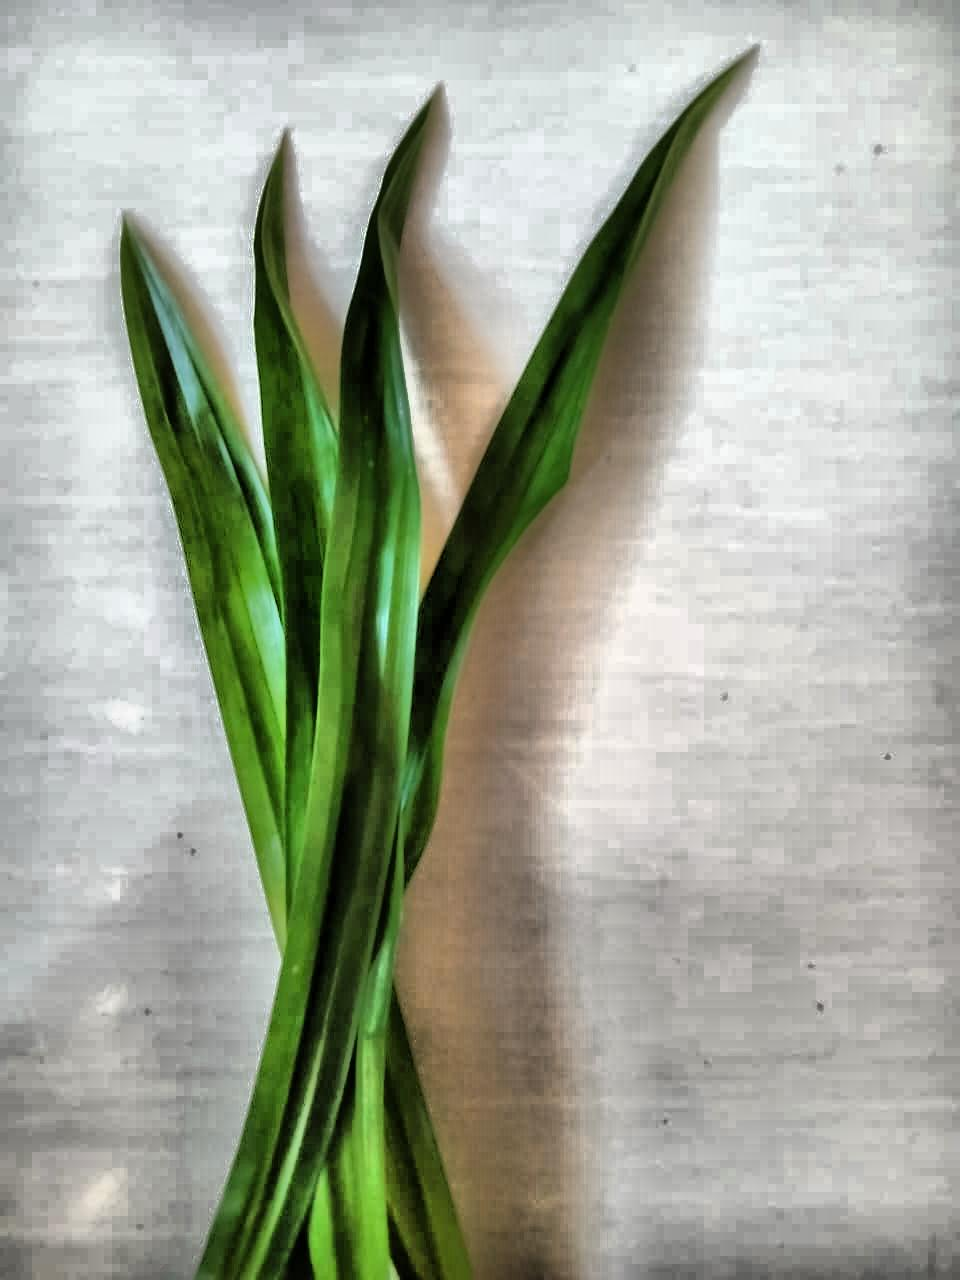daun pandan: (121, 60, 744, 1279)
